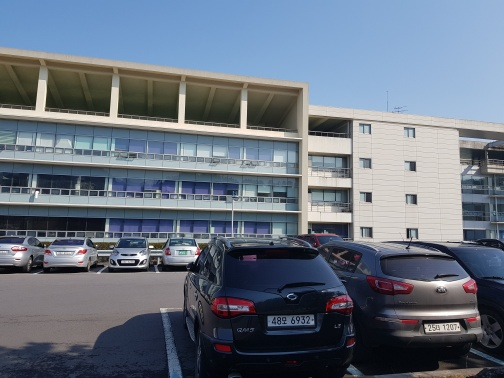Engineering College Building 4: (2, 53, 305, 232), (313, 108, 498, 235)
